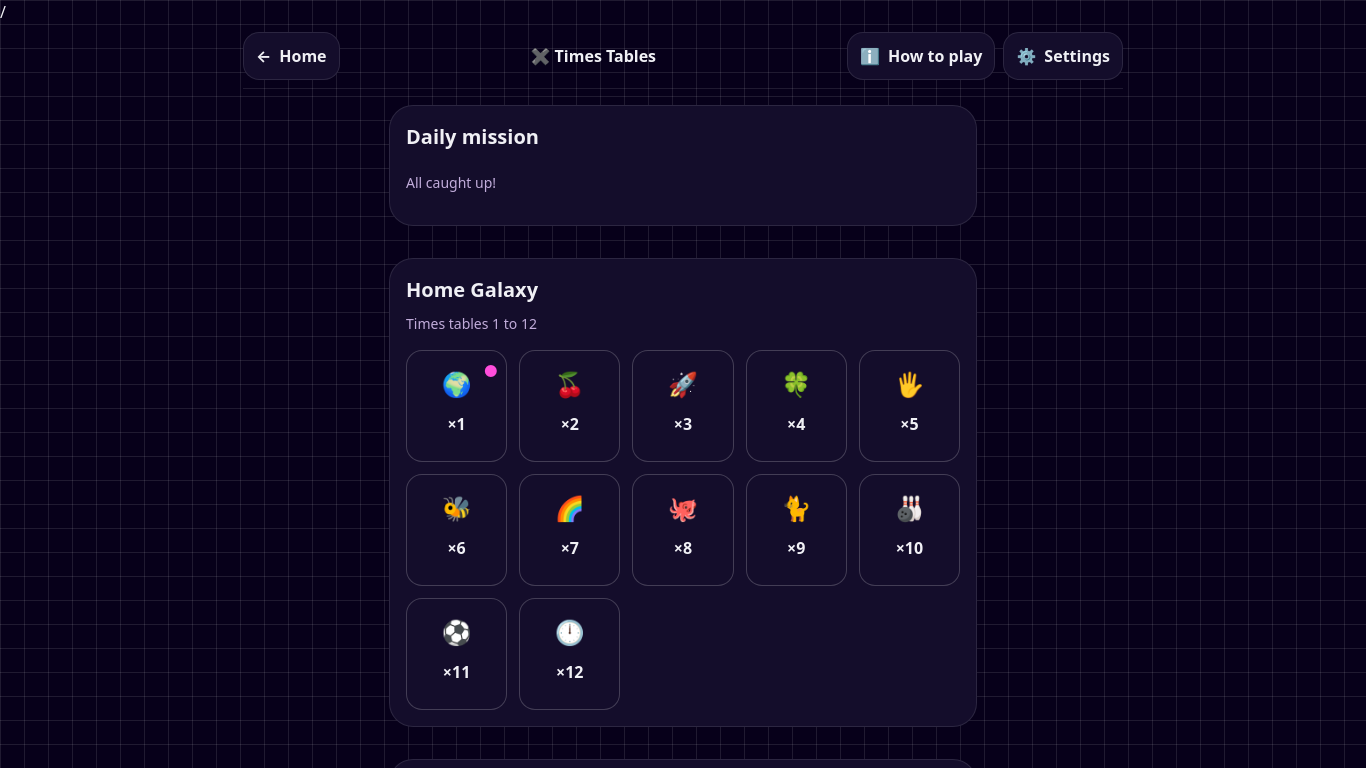
Test: TimesTablesPage › opens and closes the phase chooser and navigates selected unlocked phases
Click the button "🚀 ×3". click: [683, 406]
box: [632,350,734,462]
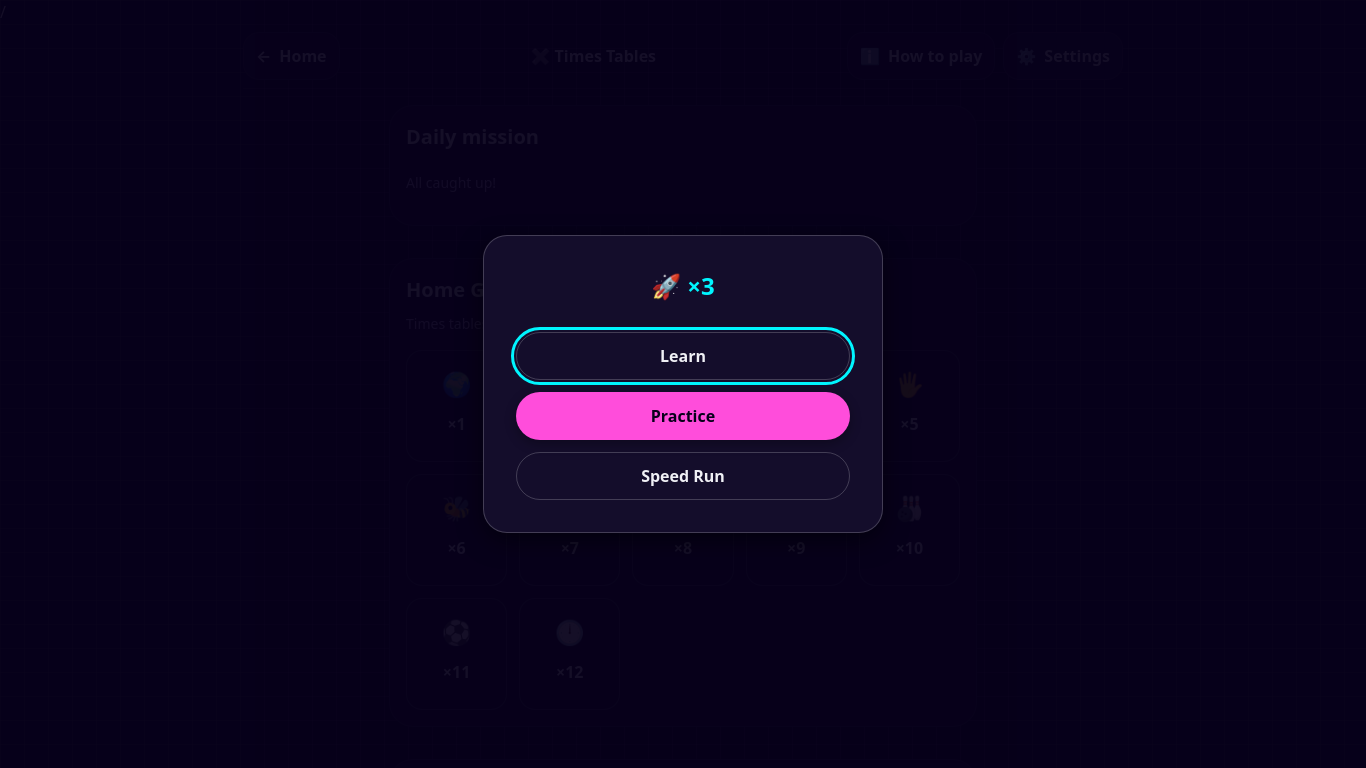
Expected: the dialog is shown
Expected: the button "Speed Run" is disabled, [516,452,850,500]
Click the button "Practice". click: [683, 416]
box: [516,392,850,440]
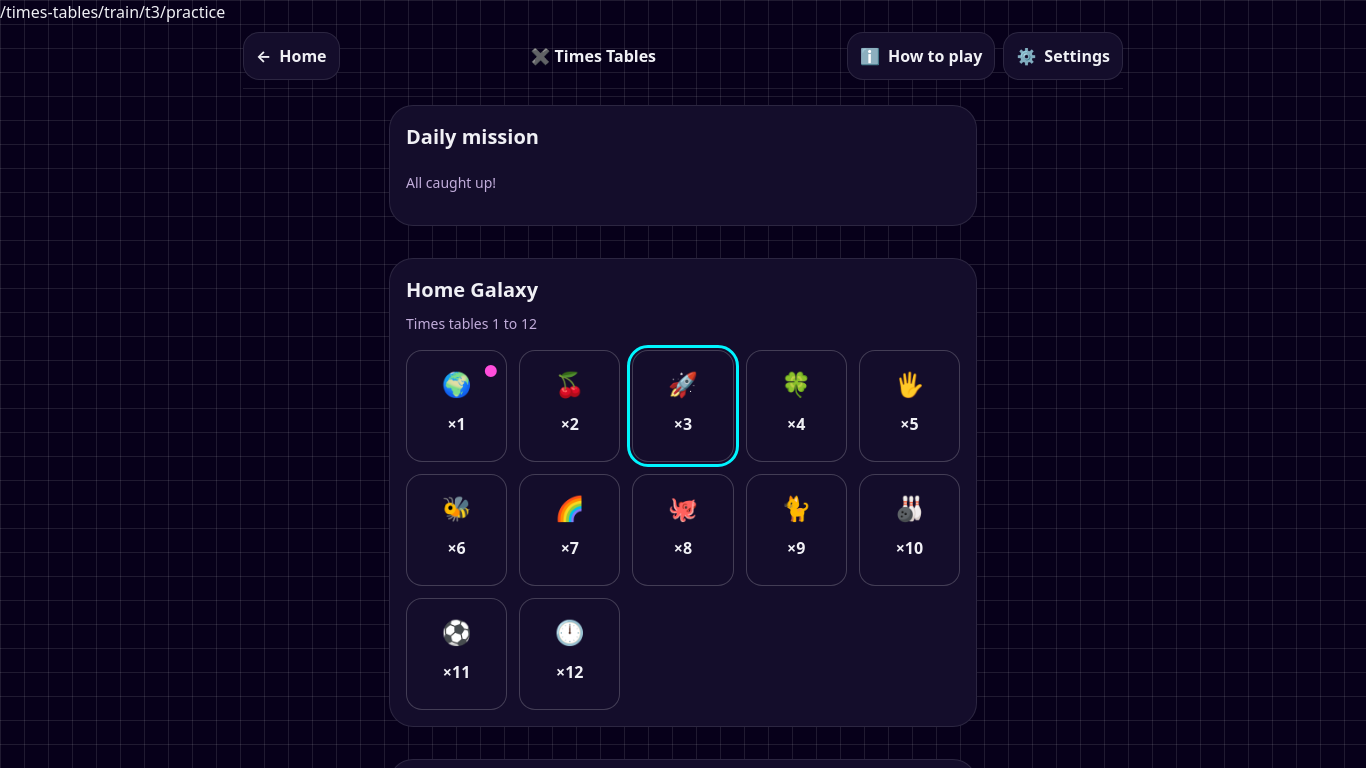
Expected: the text with test id "test-location" reads "/times-tables/train/t3/practice", [0,1,225,23]
Click the button "🚀 ×3". click: [683, 406]
box: [632,350,734,462]
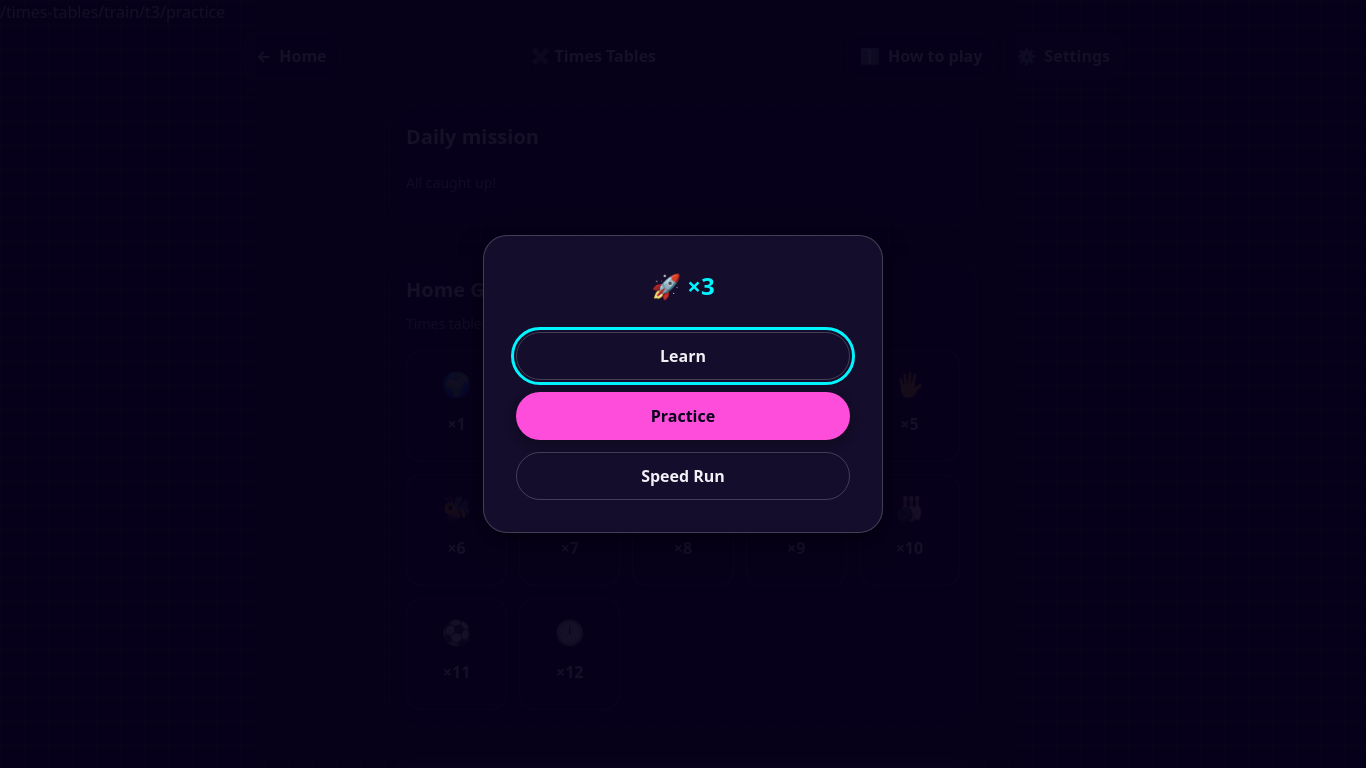
Press Escape
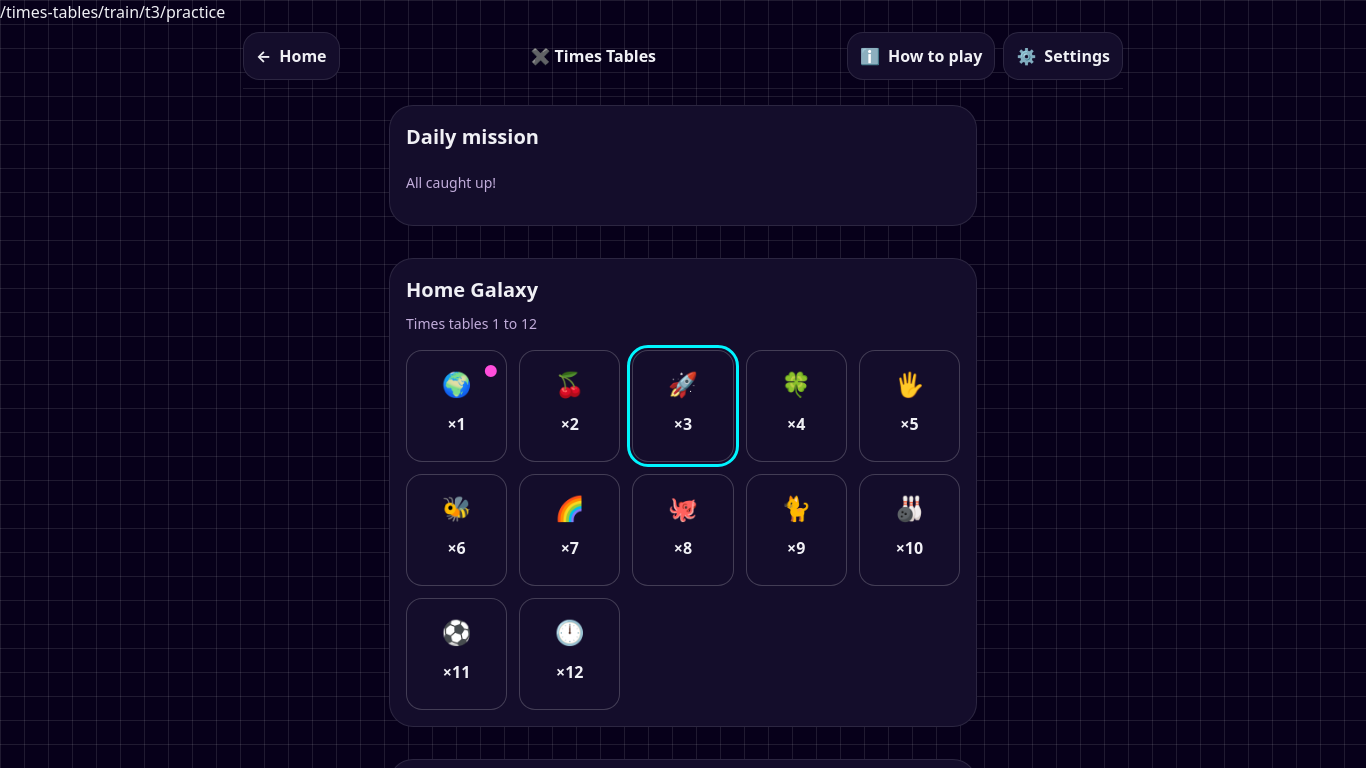
Expected: the dialog is gone
Click the button "🚀 ×3". click: [683, 406]
box: [632,350,734,462]
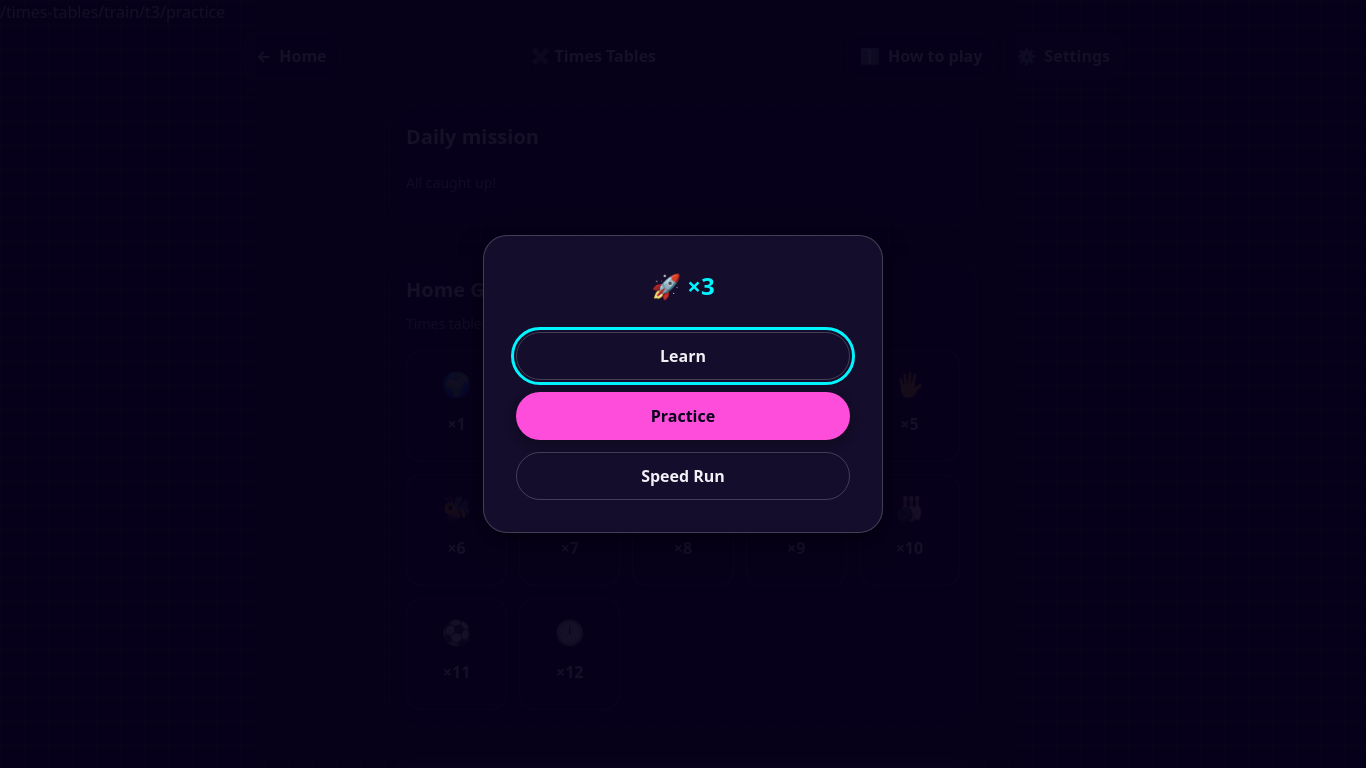
Click the dialog. click: [82, 384]
box: [0,0,1365,767]
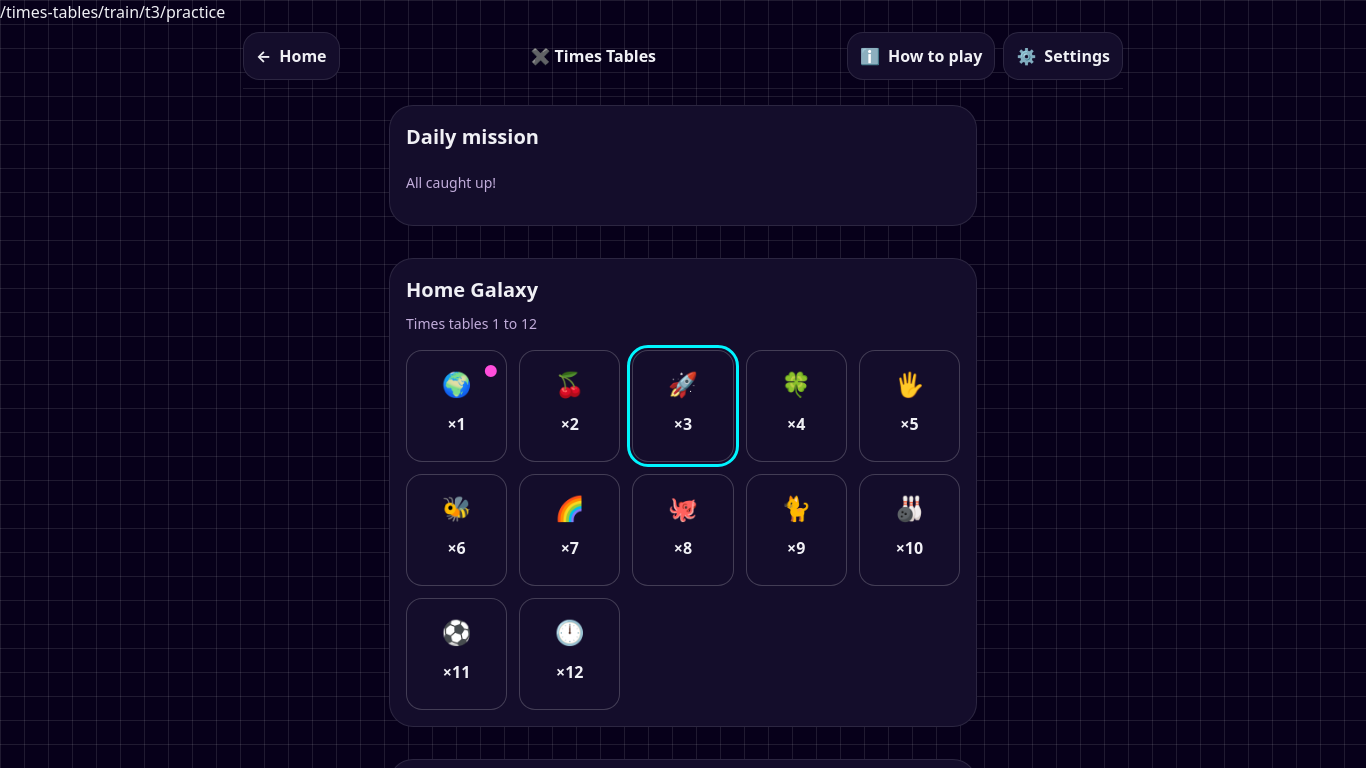
Expected: the dialog is gone
